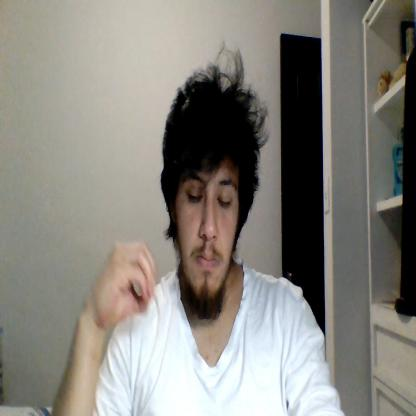O: (97, 243, 155, 318)
